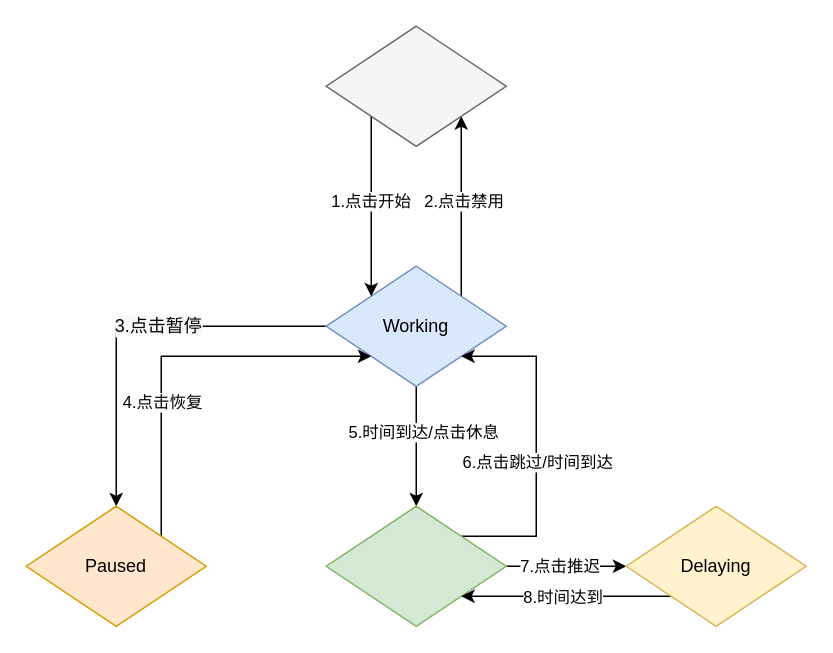
The diagram is 833 pixels wide and 653 high, and some of its shapes have lost their labels. The centre of each missing label's shape, as x and y in pixels:
"Breaking" belongs at pixel 415 565.
"Closed" belongs at pixel 415 85.
